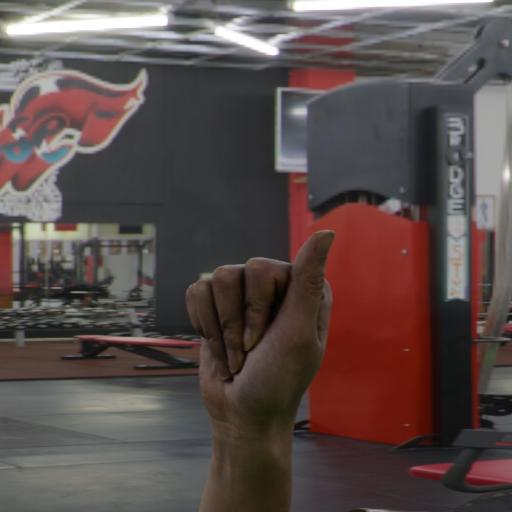A: (173, 218, 343, 507)
